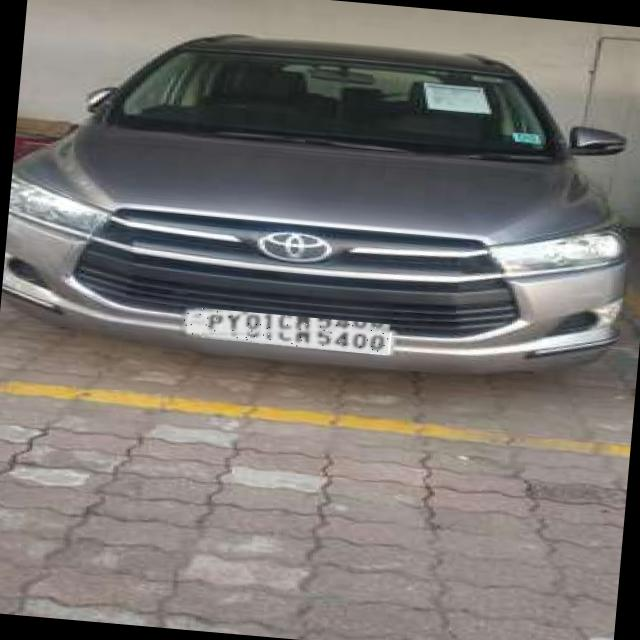Plate: (179, 307, 391, 355)
